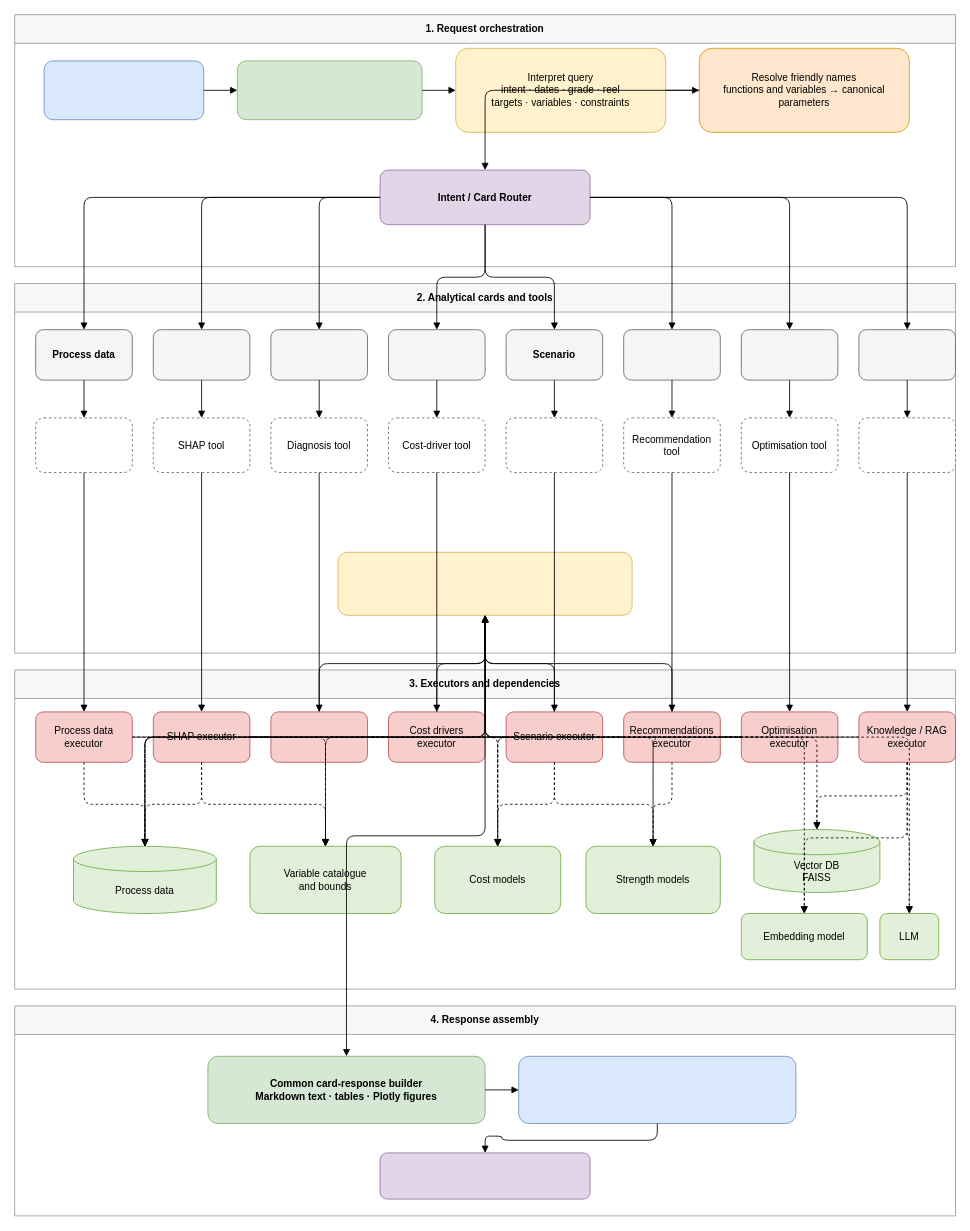
Image size: 970x1231. Some labels were removed from this diagram. Here are the shapes that lost their labels. From the top down, the centre of each, then its label:
the point at 123,90: User / Client Natural-language query
the point at 329,90: POST /ask-card query · response options
the point at 201,354: SHAP
the point at 319,354: Diagnosis
the point at 436,354: Cost drivers
the point at 671,354: Recommendations
the point at 789,354: Optimisation
the point at 907,354: Knowledge / RAG
the point at 83,444: Process-data tool
the point at 554,444: Scenario tool
the point at 907,444: Knowledge tool
the point at 484,583: Optional enrichment Diagnosis summary / cost-driver summary
the point at 319,736: Diagnosis executor
the point at 657,1089: Artifact handling Inline content OR Parquet / Plotly artifact URLs
the point at 484,1175: HTTP response returned to client
